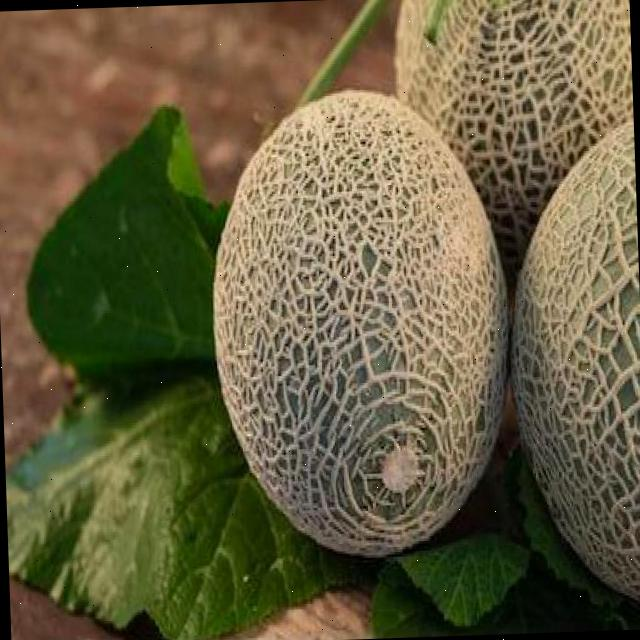Hami Melon: (209, 84, 516, 562), (510, 126, 640, 605)
